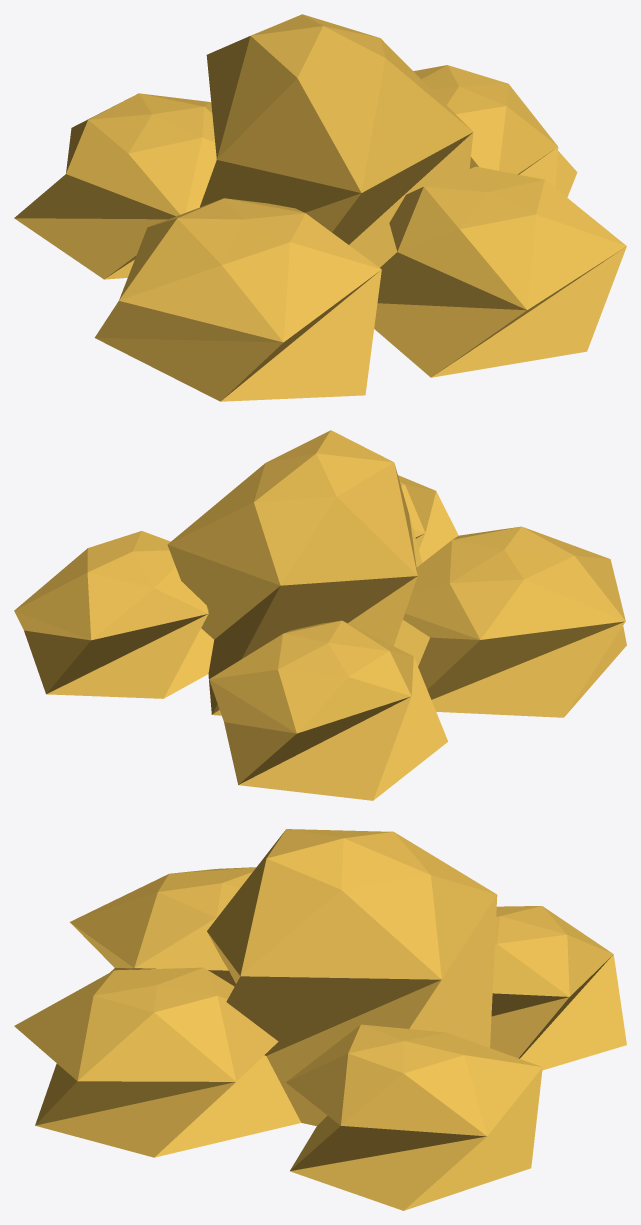
The model's file is item_rm_gold_c.obj.
3 views of the same model, one above another, from view 1: azimuth 30°, elevation 25°; view 2: azimuth 150°, elevation 25°; view 3: azimuth 270°, elevation 25° (orthographic). The views are drawn at different scales.
Bounding box in the file's own units: 0.8886 × 0.365 × 0.8615.
